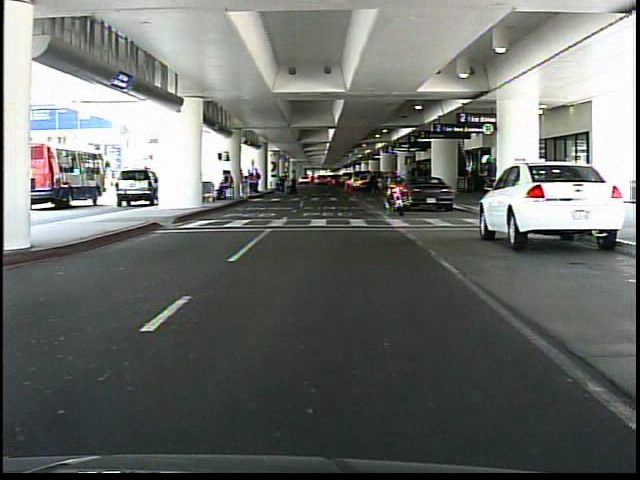person: (472, 149, 499, 223)
